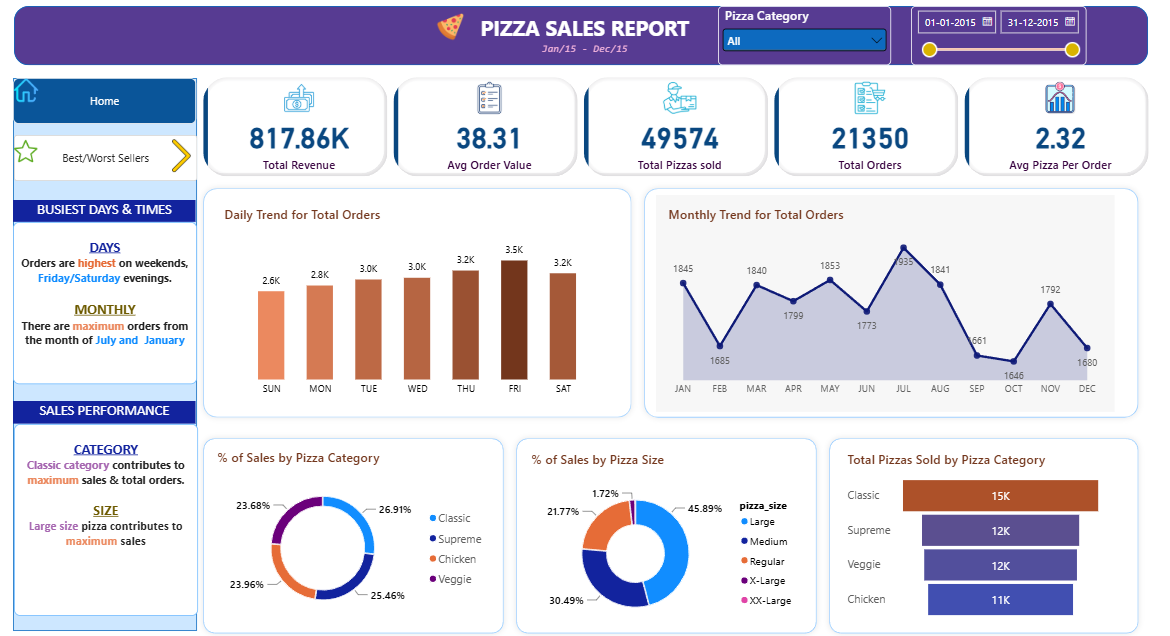

Layout of this report page (visuals, bound fields, positions):
{"tool":"powerbi","page":{"name":"Home","canvas":[1500,820],"ordinal":0},"visuals":[{"type":"cardVisual","fields":{"Data":["public pizza_sales.Total Revenue","public pizza_sales.Avg Order Value","public pizza_sales.Total Pizzas sold","public pizza_sales.Total Orders","public pizza_sales.Avg Pizza Per Order"]},"box":[253.1,90.8,1230,143],"z":0},{"type":"shape","box":[17.3,8.2,1454,76],"z":1000},{"type":"textbox","box":[16.9,16.9,1466.3,48.3],"z":2000},{"type":"textbox","box":[16.9,51.7,1466.3,48.3],"z":3000},{"type":"image","box":[558.4,16.9,37.1,34.8],"z":4000},{"type":"shape","box":[253.1,233.7,565,310],"z":5000},{"type":"columnChart","title":"Daily Trend for Total Orders","fields":{"Category":["public pizza_sales.Order Day"],"Y":["public pizza_sales.Total Orders"]},"box":[271.4,250,527.6,277.6],"z":6000},{"type":"shape","box":[818,233.7,649.4,310.1],"z":7000},{"type":"areaChart","title":"Monthly Trend for Total Orders","fields":{"Category":["public pizza_sales.Order Month"],"Y":["public pizza_sales.Total Orders"]},"box":[841.6,250.6,587.6,277.5],"z":8000},{"type":"shape","box":[252.8,553.9,401.1,266.3],"z":9000},{"type":"shape","box":[1055.1,553.9,412.4,266.3],"z":10000},{"type":"shape","box":[653.9,553.9,401.1,266.3],"z":11000},{"type":"donutChart","title":"% of Sales by Pizza Category","fields":{"Category":["public pizza_sales.pizza_category"],"Y":["public pizza_sales.Total Revenue"]},"box":[262.9,561.8,379.8,247.2],"z":12000},{"type":"donutChart","title":"% of Sales by Pizza Size","fields":{"Category":["public pizza_sales.pizza_size"],"Y":["public pizza_sales.Total Revenue"]},"box":[665.2,564,378.7,256.2],"z":13000},{"type":"funnel","title":"Total Pizzas Sold by Pizza Category","fields":{"Category":["public pizza_sales.pizza_category"],"Y":["public pizza_sales.Total Pizzas sold"]},"box":[1070.8,564,358.4,244.9],"z":14000},{"type":"shape","box":[16.9,100,236,709],"z":15000},{"type":"textbox","box":[41.6,259.6,162.9,36],"z":16000},{"type":"textbox","box":[16.7,256.7,234.4,27.8],"z":17000},{"type":"textbox","box":[16.7,284.4,235.6,207.8],"z":18000},{"type":"textbox","box":[16.7,514.4,234.4,28.9],"z":19000},{"type":"textbox","box":[17.8,543.3,235.6,245.6],"z":20000},{"type":"slicer","fields":{"Values":["public pizza_sales.pizza_category"]},"box":[920.2,7.9,222.5,76.4],"z":20001},{"type":"slicer","fields":{"Values":["public pizza_sales.order_date"]},"box":[1167.4,7.9,224.7,76.4],"z":20002},{"type":"pageNavigator","box":[16.5,100,235,59],"z":20003},{"type":"pageNavigator","box":[17.8,173.3,235.1,59.8],"z":20004},{"type":"image","box":[211.1,175.6,42.3,48.5],"z":20005},{"type":"image","box":[17.8,83.3,31.1,64.4],"z":20006},{"type":"image","box":[17.8,162.2,30,62.2],"z":20007}]}

Visuals, with their boxes in screenshot pixels (x1, y1, x2, y2), scaled from the page's 1500x820 canvas onto the 1170x636 screenshot:
cardVisual - public pizza_sales.Total Revenue x public pizza_sales.Avg Order Value: pyautogui.locateOnScreen(197, 70, 1157, 181)
shape: pyautogui.locateOnScreen(13, 6, 1148, 65)
textbox: pyautogui.locateOnScreen(13, 13, 1157, 51)
textbox: pyautogui.locateOnScreen(13, 40, 1157, 78)
image: pyautogui.locateOnScreen(436, 13, 464, 40)
shape: pyautogui.locateOnScreen(197, 181, 638, 422)
"Daily Trend for Total Orders" columnChart: pyautogui.locateOnScreen(212, 194, 623, 409)
shape: pyautogui.locateOnScreen(638, 181, 1145, 422)
"Monthly Trend for Total Orders" areaChart: pyautogui.locateOnScreen(656, 194, 1115, 410)
shape: pyautogui.locateOnScreen(197, 430, 510, 635)
shape: pyautogui.locateOnScreen(823, 430, 1145, 635)
shape: pyautogui.locateOnScreen(510, 430, 823, 635)
"% of Sales by Pizza Category" donutChart: pyautogui.locateOnScreen(205, 436, 501, 627)
"% of Sales by Pizza Size" donutChart: pyautogui.locateOnScreen(519, 437, 814, 635)
"Total Pizzas Sold by Pizza Category" funnel: pyautogui.locateOnScreen(835, 437, 1115, 627)
shape: pyautogui.locateOnScreen(13, 78, 197, 627)
textbox: pyautogui.locateOnScreen(32, 201, 160, 229)
textbox: pyautogui.locateOnScreen(13, 199, 196, 221)
textbox: pyautogui.locateOnScreen(13, 221, 197, 382)
textbox: pyautogui.locateOnScreen(13, 399, 196, 421)
textbox: pyautogui.locateOnScreen(14, 421, 198, 612)
slicer - public pizza_sales.pizza_category: pyautogui.locateOnScreen(718, 6, 891, 65)
slicer - public pizza_sales.order_date: pyautogui.locateOnScreen(911, 6, 1086, 65)
pageNavigator: pyautogui.locateOnScreen(13, 78, 196, 123)
pageNavigator: pyautogui.locateOnScreen(14, 134, 197, 181)
image: pyautogui.locateOnScreen(165, 136, 198, 174)
image: pyautogui.locateOnScreen(14, 65, 38, 115)
image: pyautogui.locateOnScreen(14, 126, 37, 174)
